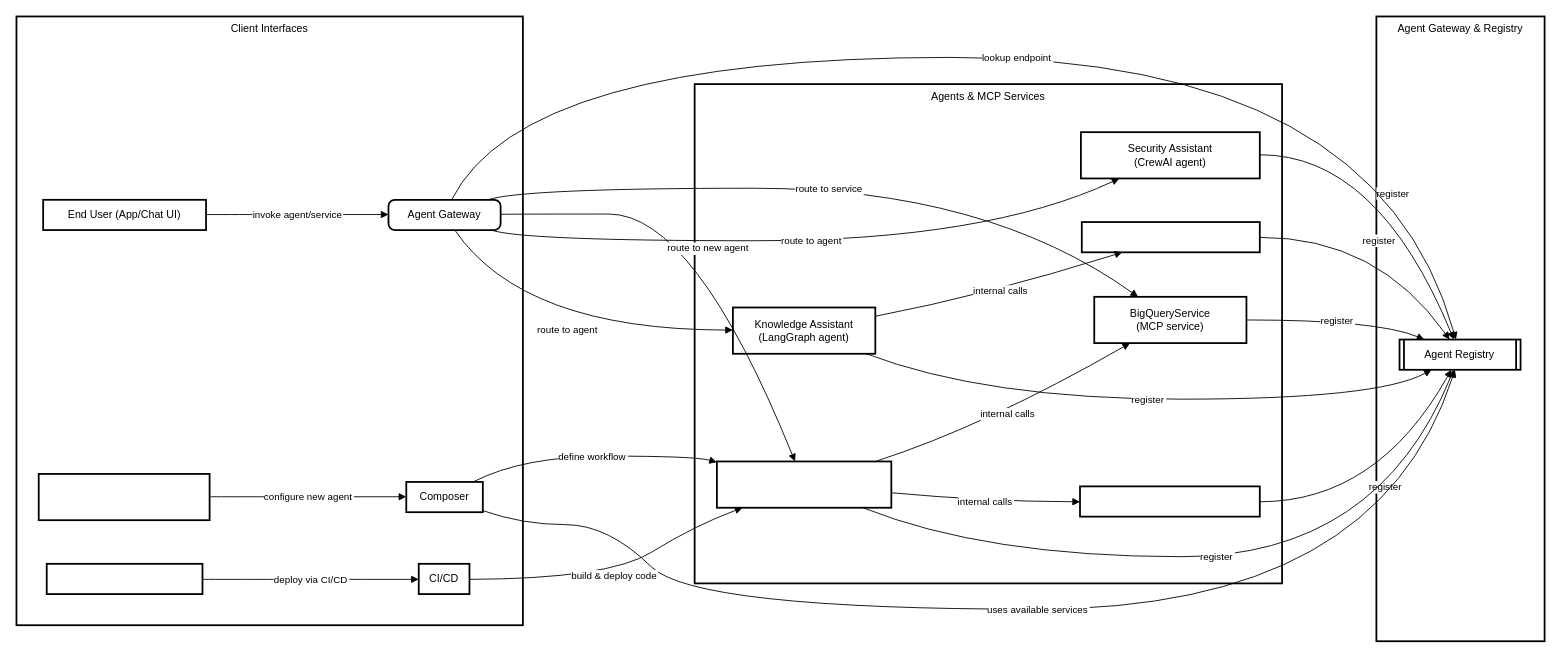
Some shapes in this 1560 by 657 pixel diagram are drawn without their labels. Each missing label, with the centre of its shape:
"AuthService (MCP service)" belongs at [1169,501].
"Business User (Low-Code Builder)" belongs at [123,497].
"Developer (Code/SDK)" belongs at [124,578].
"HR Recruitment Assistant (Composed agent)" belongs at [804,484].
"WebService (MCP service)" belongs at [1170,237].
